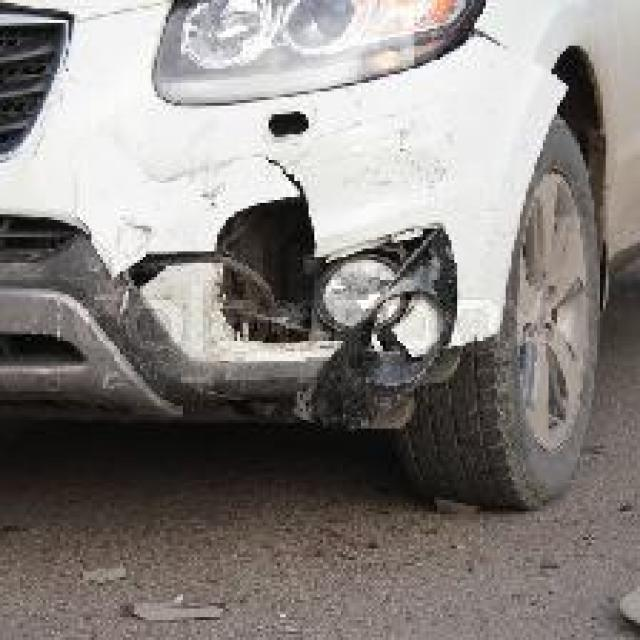damaged: (77, 102, 506, 428)
